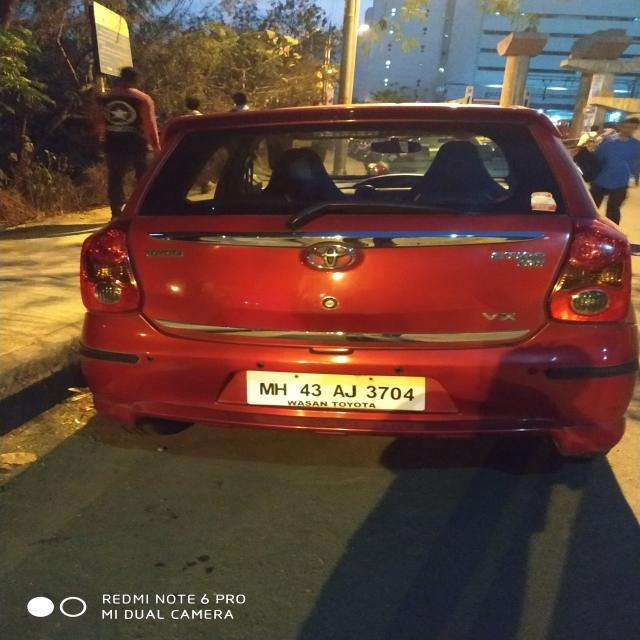Number-Plate: (246, 373, 424, 409)
